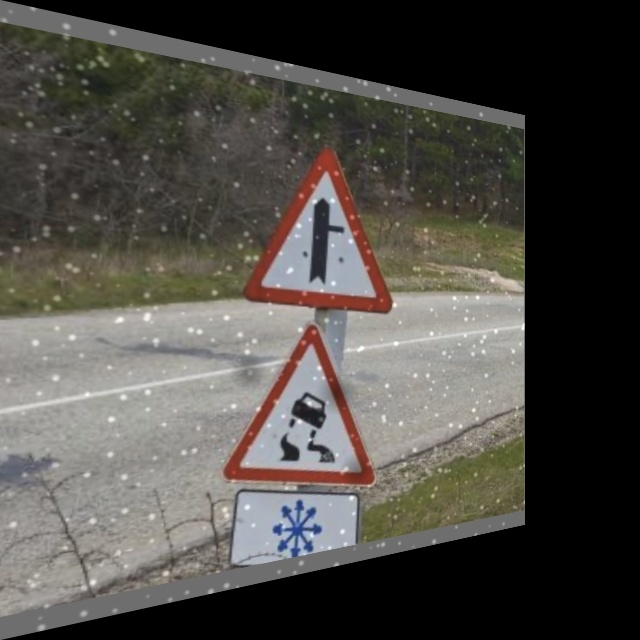Slippery_Road: (226, 322, 384, 493)
